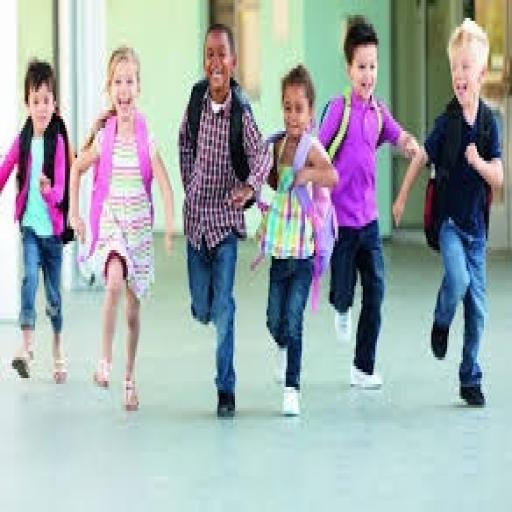running: (391, 15, 507, 411), (67, 42, 177, 414), (316, 15, 422, 396), (176, 21, 274, 423), (254, 62, 340, 420), (0, 57, 77, 387)
